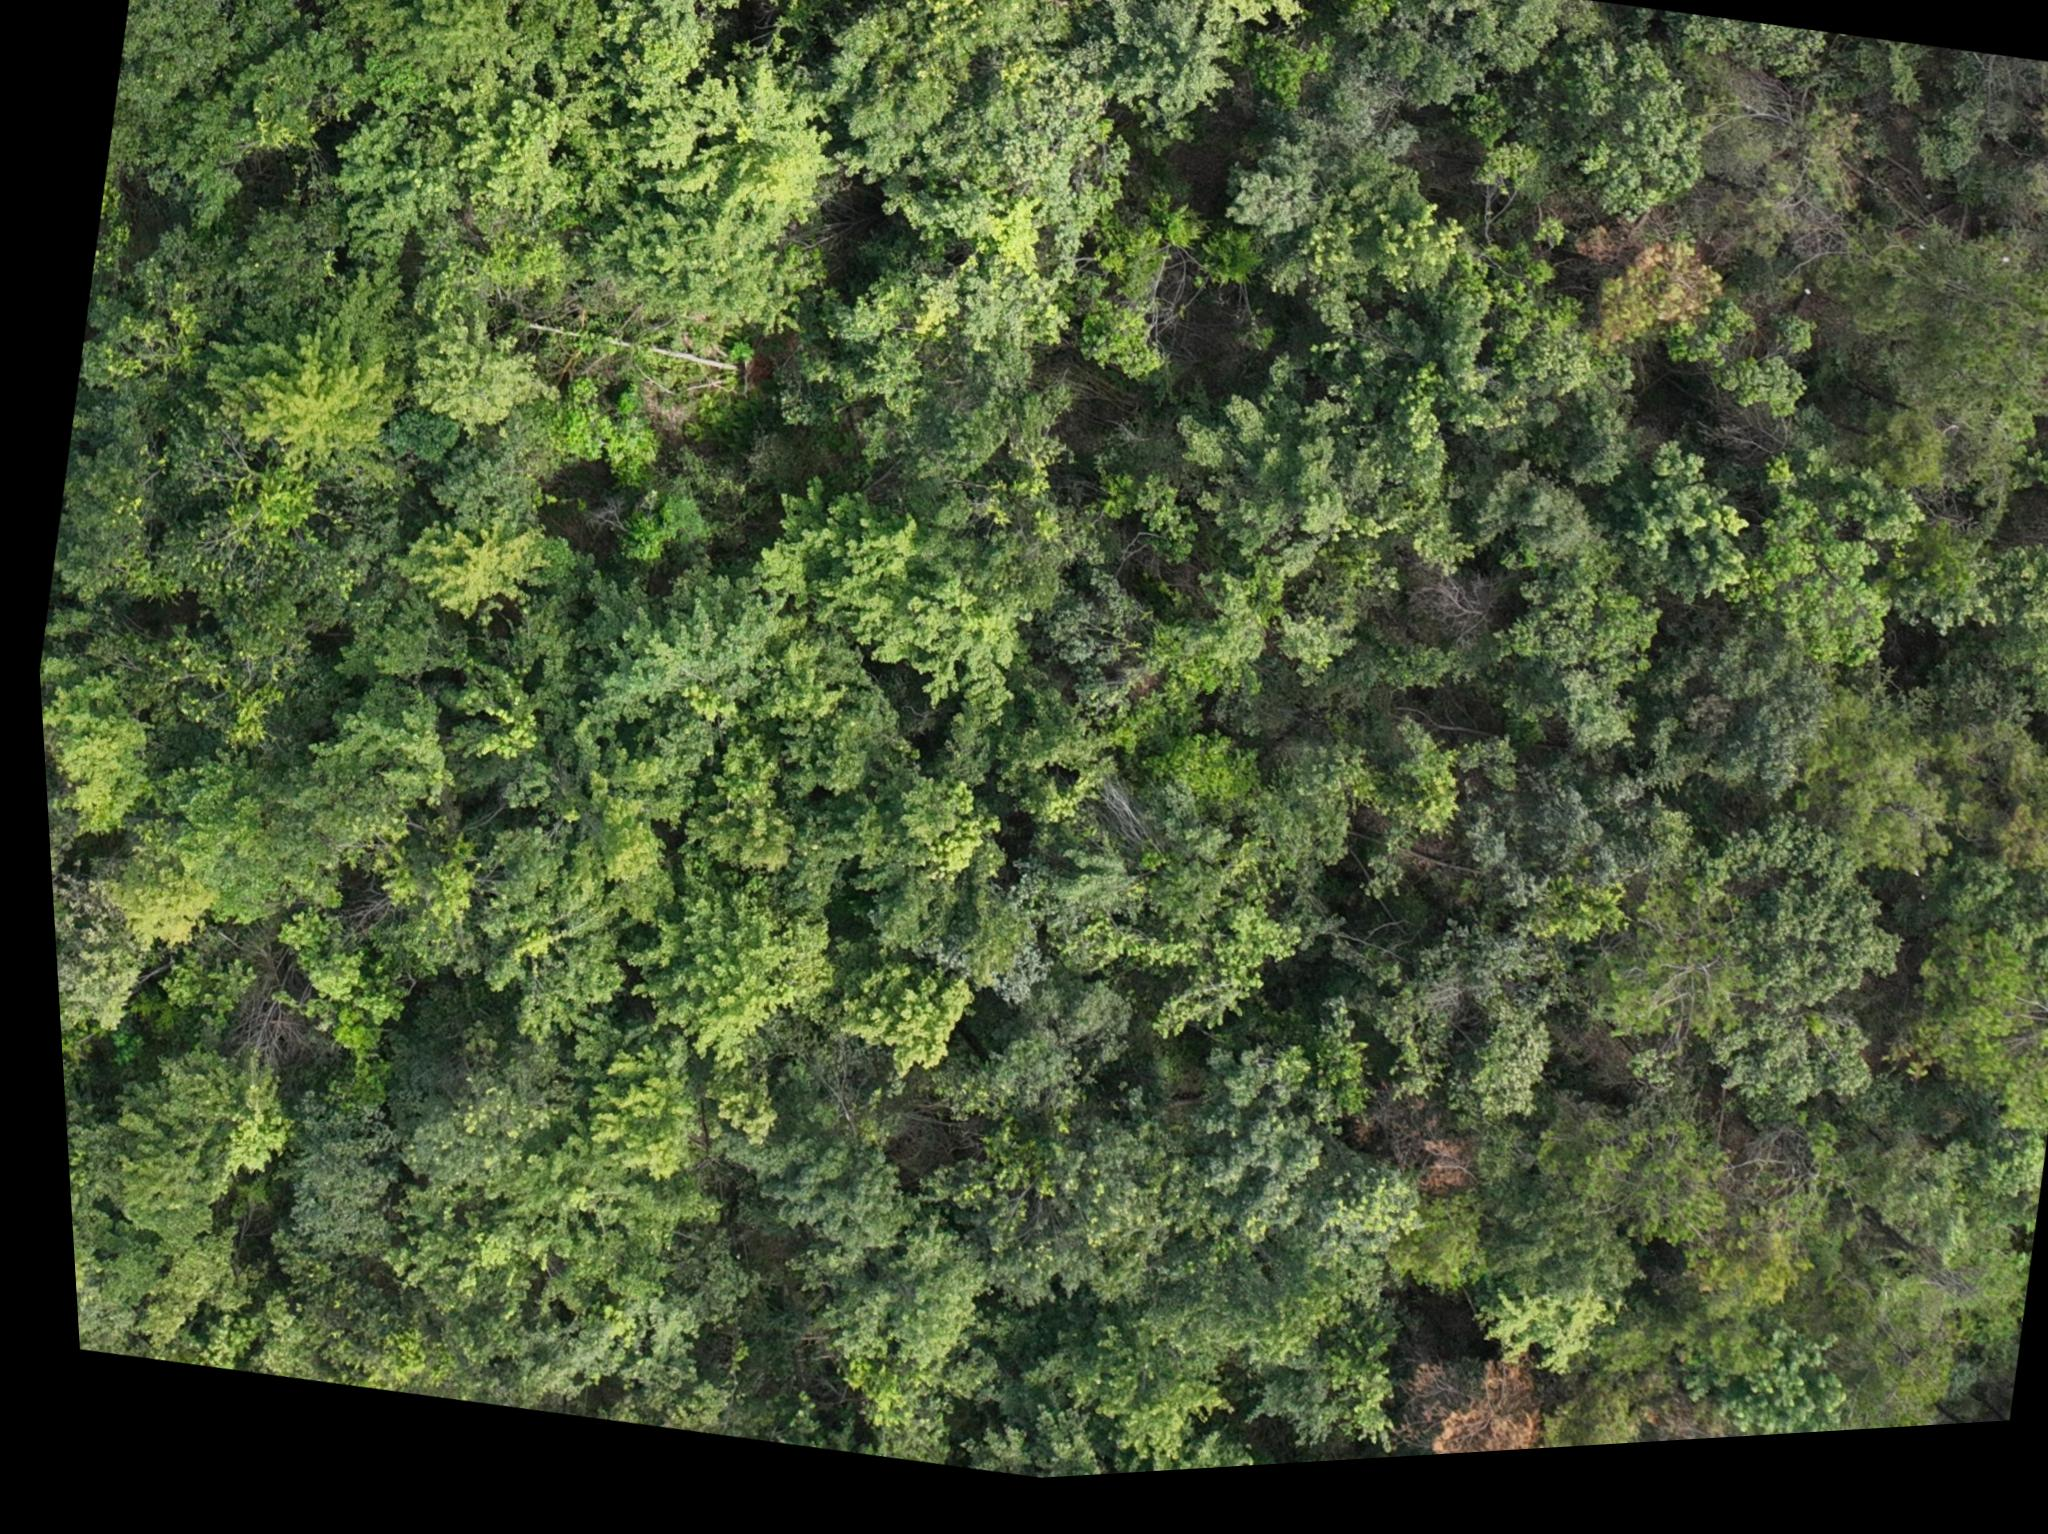heavy: (1363, 1345, 1558, 1474), (1328, 1091, 1484, 1226)
light: (1573, 242, 1731, 393)
